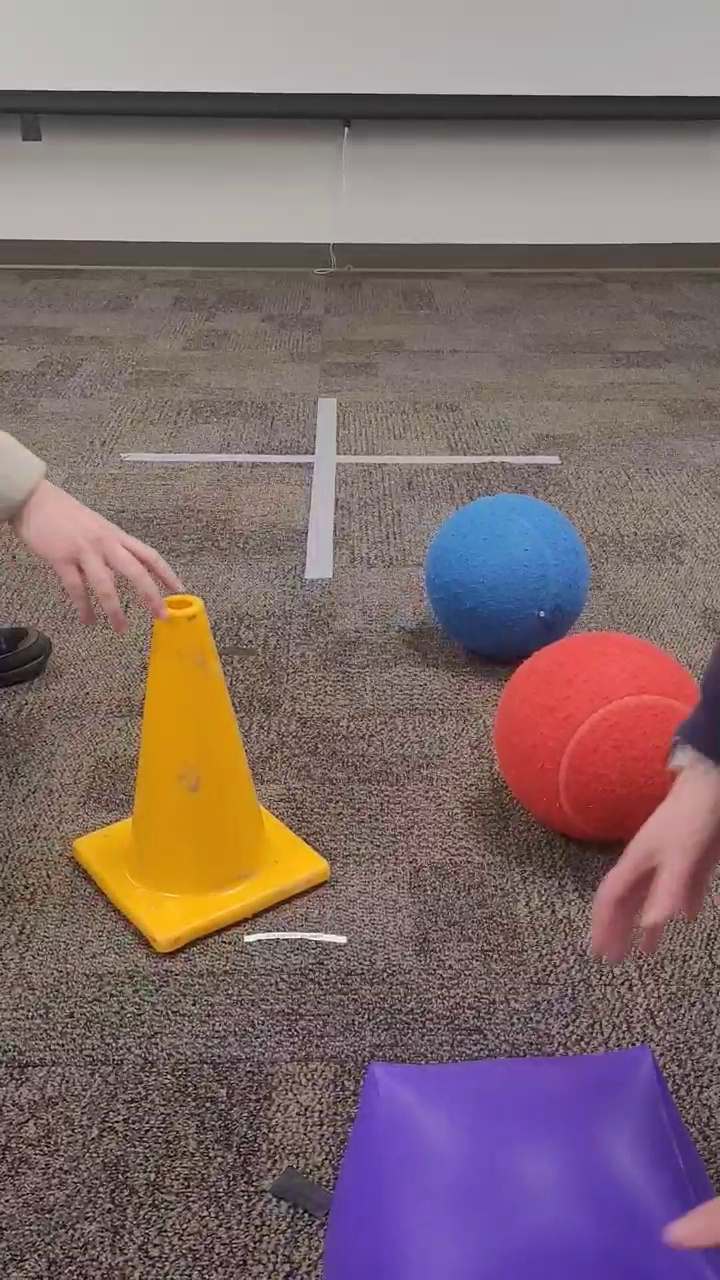ball: (493, 633, 702, 845), (420, 489, 596, 659)
cone: (66, 587, 338, 957)
cube: (316, 1045, 719, 1278)
foot: (1, 619, 56, 693)
hand: (583, 636, 720, 967), (1, 420, 186, 637)
